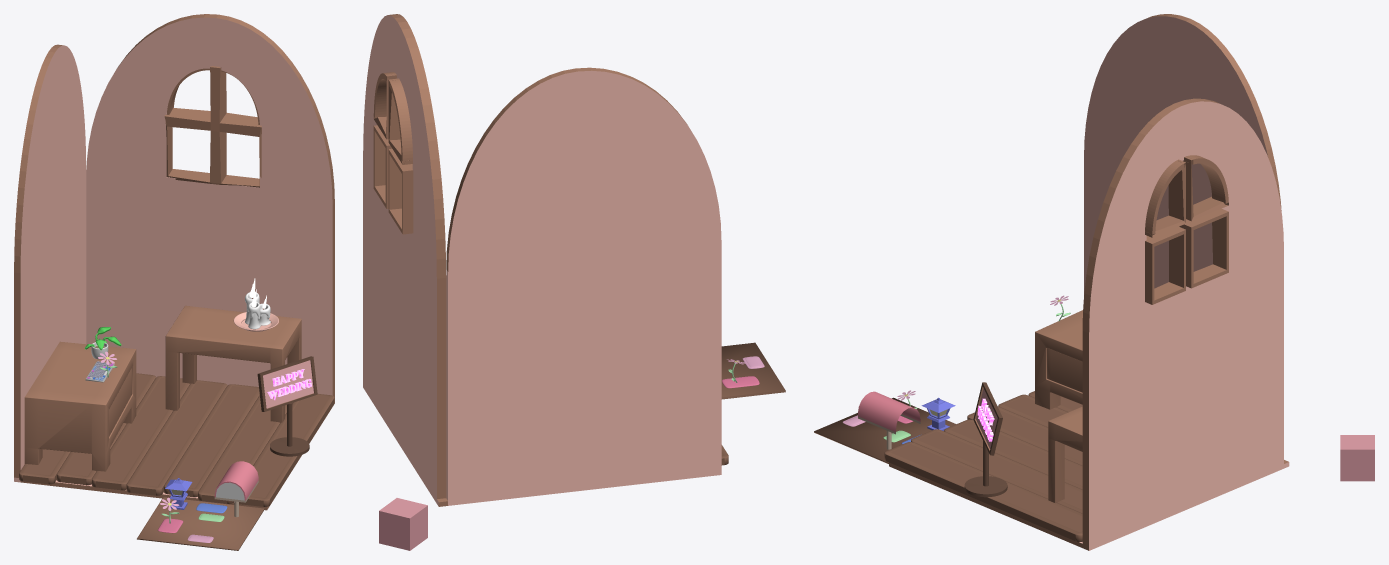
The model's file is tryWedding2.glb.
3 renders of one model, left to right at view 1: azimuth 30°, elevation 25°; view 2: azimuth 150°, elevation 25°; view 3: azimuth 270°, elevation 25°, orthographic. The views are drawn at different scales.
Visible parts, largest first — view 1: Body, Plane, Cube.007, Cube.006, Plane.001, MiniFloor, Chair, Mailbox, Cylinder, Lamp, TableStuff.002, Circle.001; view 2: Body, Plane.001, MiniFloor, Cube; view 3: Body, Plane, Plane.001, Cube.007, MiniFloor, Cube.006, Mailbox, Cube, Chair, Cylinder.
Part boxes in pixels (x1,y1,x2,y2): Body: [14, 14, 334, 510]; Plane: [19, 373, 334, 506]; Cube.007: [24, 341, 136, 471]; Cube.006: [165, 305, 301, 422]; Plane.001: [164, 66, 261, 187]; MiniFloor: [137, 497, 264, 550]; Chair: [257, 356, 317, 411]; Mailbox: [214, 461, 258, 517]; Cylinder: [270, 403, 309, 456]; Lamp: [165, 478, 192, 509]; TableStuff.002: [84, 327, 121, 359]; Circle.001: [233, 312, 278, 331]; Body: [363, 14, 721, 506]; Plane.001: [373, 72, 413, 234]; MiniFloor: [721, 342, 785, 399]; Cube: [379, 498, 427, 550]; Body: [889, 14, 1289, 550]; Plane: [884, 391, 1082, 541]; Plane.001: [1145, 155, 1228, 304]; Cube.007: [1035, 310, 1082, 409]; MiniFloor: [814, 397, 955, 463]; Cube.006: [1048, 406, 1082, 502]; Mailbox: [858, 391, 920, 449]; Cube: [1340, 435, 1374, 481]; Chair: [973, 382, 1002, 455]; Cylinder: [964, 441, 1007, 497].
Size of the model in its own units: 23.07 by 26.28 by 32.32.
